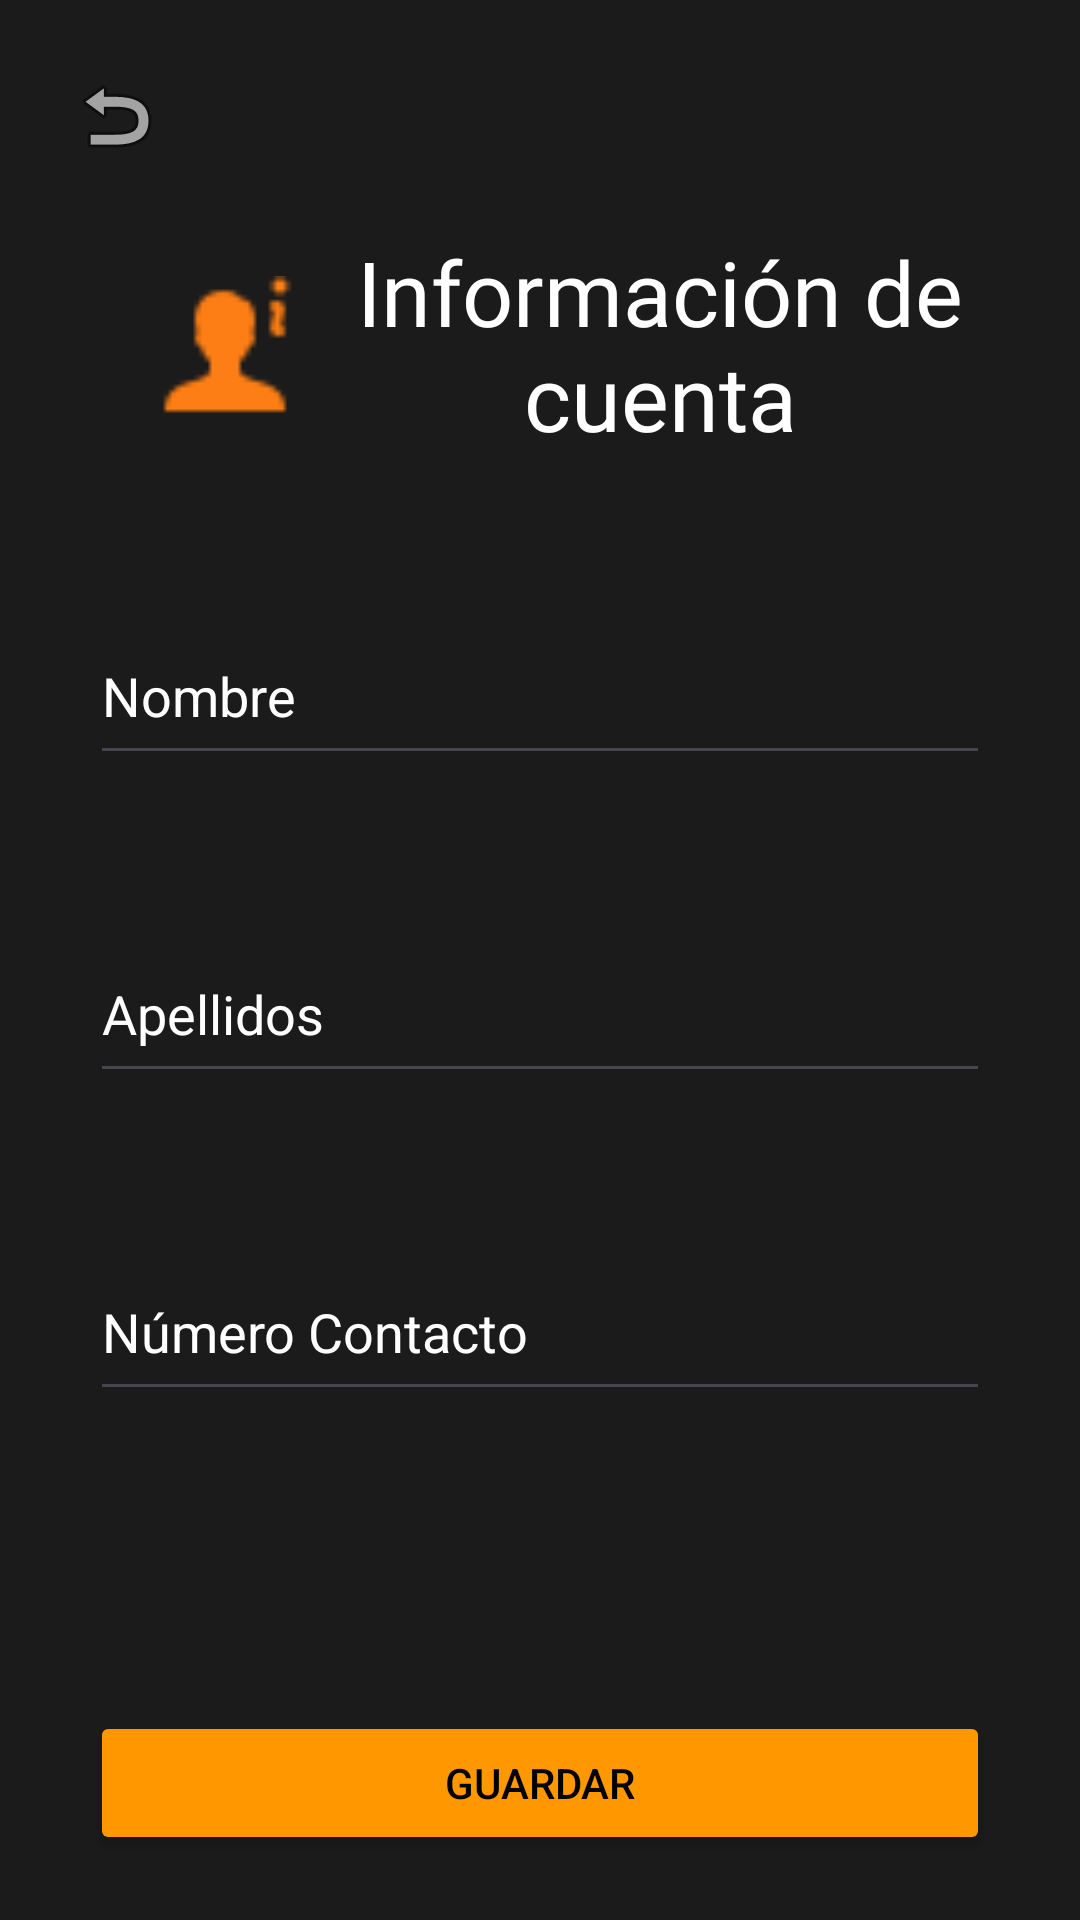

Icon click points for this 1080 x 1920 phone screenshot, format [x,y]:
more info: [227,344]
volver: [117,116]
